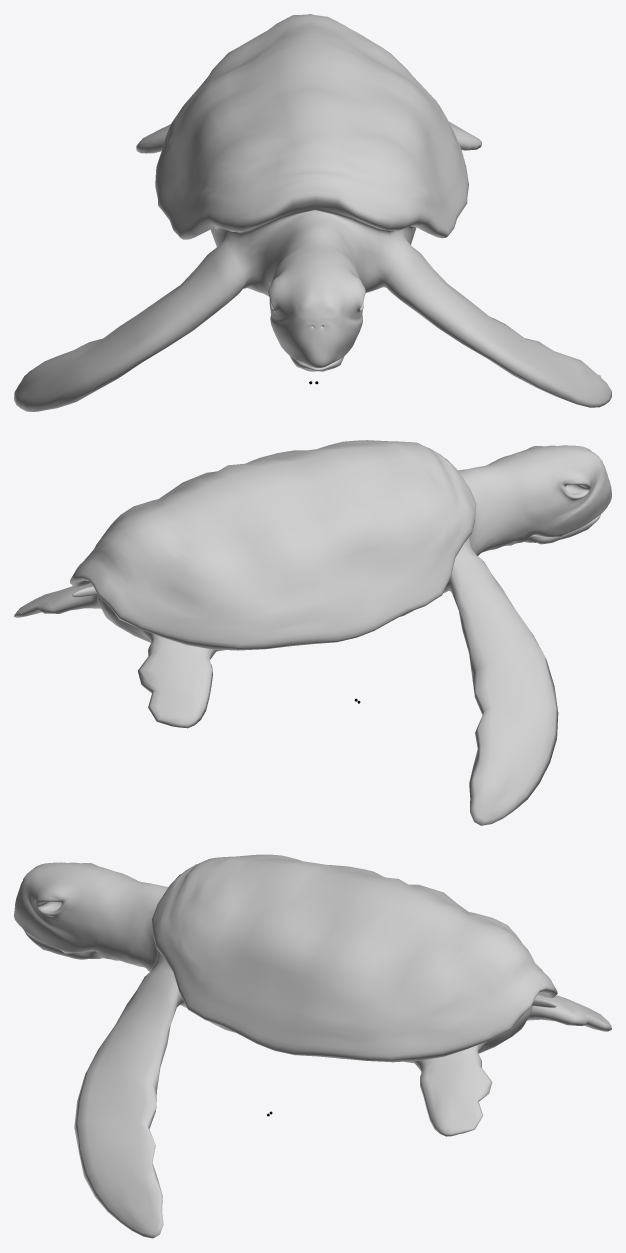
Rendered from seaTurtle_edit_for_FBX.fbx.
The picture shows the model from 3 angles, top to bottom: view 1: azimuth 30°, elevation 25°; view 2: azimuth 150°, elevation 25°; view 3: azimuth 270°, elevation 25°; orthographic projection. The views are drawn at different scales.
Visible parts, largest first — view 1: turtle; view 2: turtle; view 3: turtle.
Part boxes in pixels (x1,y1,x2,y2): turtle: (14, 14, 611, 411); turtle: (14, 440, 611, 825); turtle: (14, 854, 611, 1238).
Size of the model in its own units: 933 by 533 by 1044.
